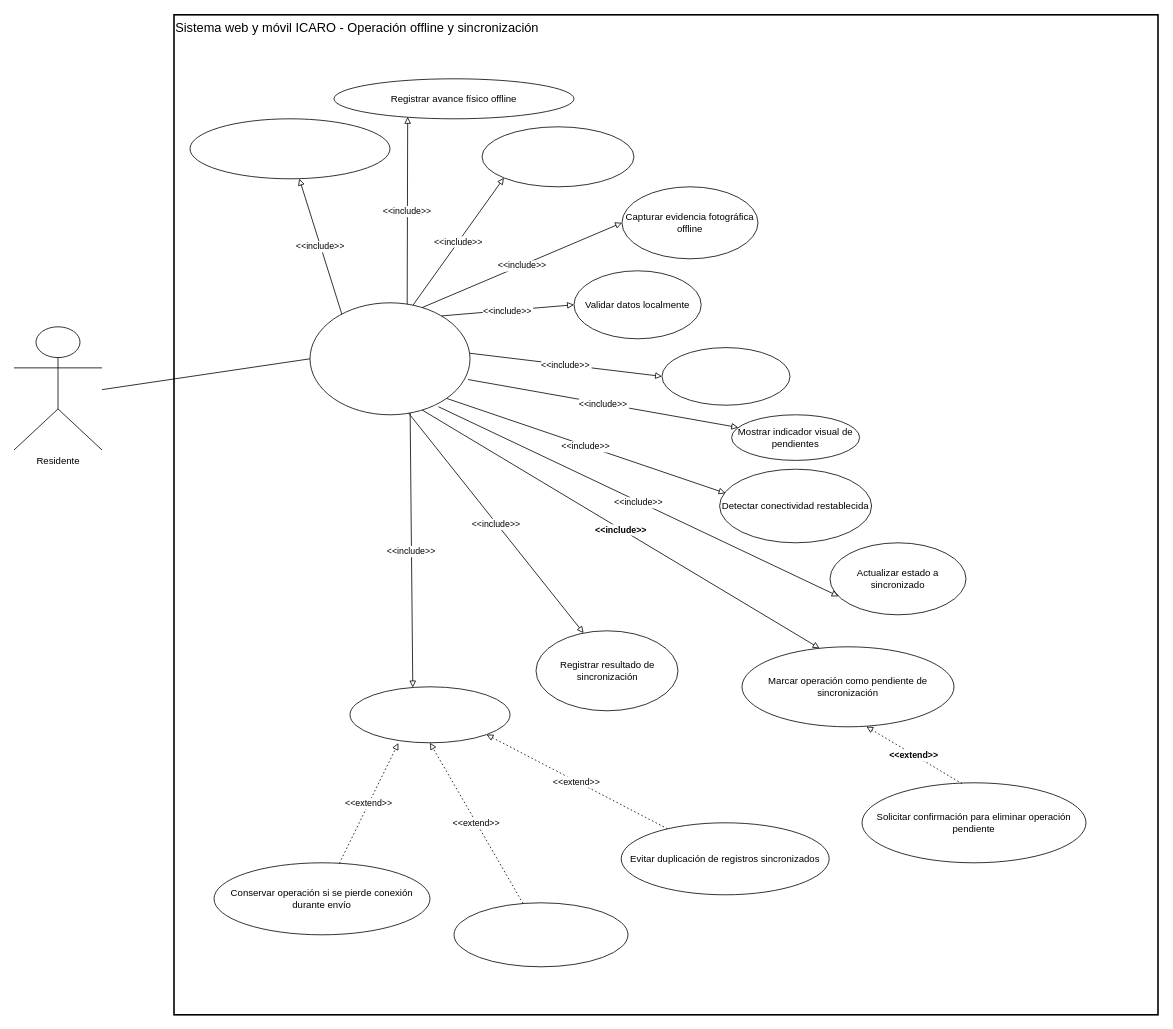
This 1173x1029 diagram has some shape labels left out. Here are the shapes that lost their labels. From the top down, the box of each, then its label:
(189, 118, 390, 179): Detectar conectividad del dispositivo
(481, 126, 634, 187): Registrar consumo de materiales offline
(309, 302, 470, 415): Registrar operaciones offline y sincronizar datos
(661, 347, 790, 405): Guardar operación en almacenamiento local
(349, 686, 510, 743): Enviar operaciones pendientes a la API REST
(453, 902, 628, 967): Marcar operación con error de sincronización
